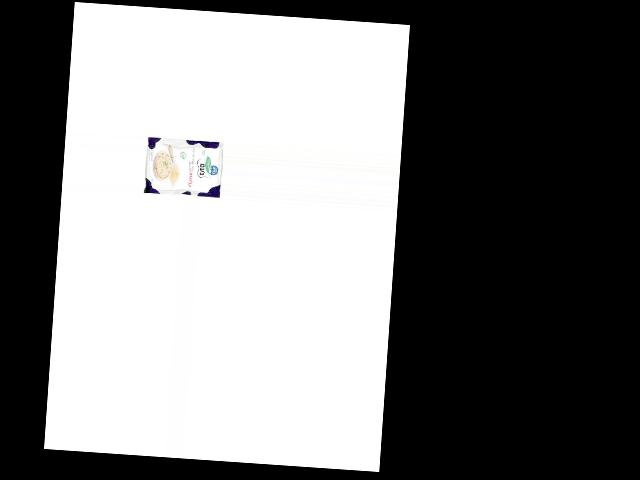cheese: (142, 135, 224, 199)
